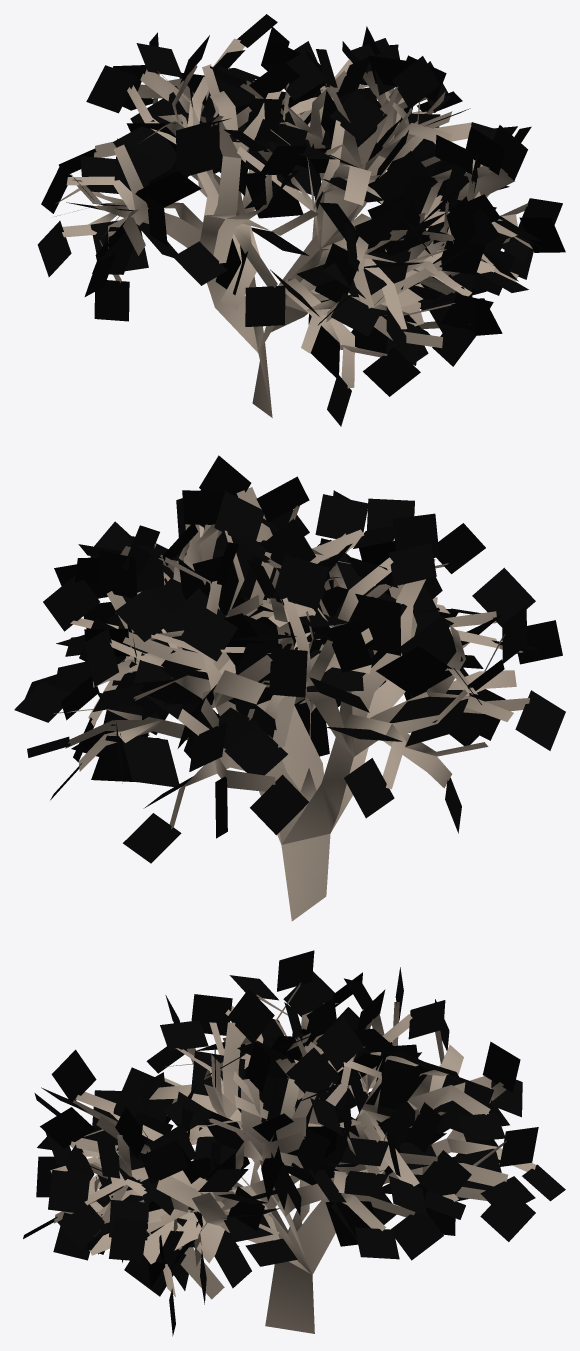
Rendered from tree.fbx.
3 views of the same model, one above another, from view 1: azimuth 30°, elevation 25°; view 2: azimuth 150°, elevation 25°; view 3: azimuth 270°, elevation 25° (orthographic). The views are drawn at different scales.
Parts seen in each view (by area): view 1: treeBare4Leaf, treeBare4Main; view 2: treeBare4Leaf, treeBare4Main; view 3: treeBare4Leaf, treeBare4Main.
Boxes of the visible parts, x1,y1,x2,y2 form: treeBare4Leaf: [37, 14, 565, 426]; treeBare4Main: [54, 38, 532, 417]; treeBare4Leaf: [14, 455, 565, 863]; treeBare4Main: [53, 487, 529, 921]; treeBare4Leaf: [23, 950, 565, 1336]; treeBare4Main: [50, 982, 535, 1333].
Bounding box in the file's own units: 2.9 × 2.14 × 2.98.
